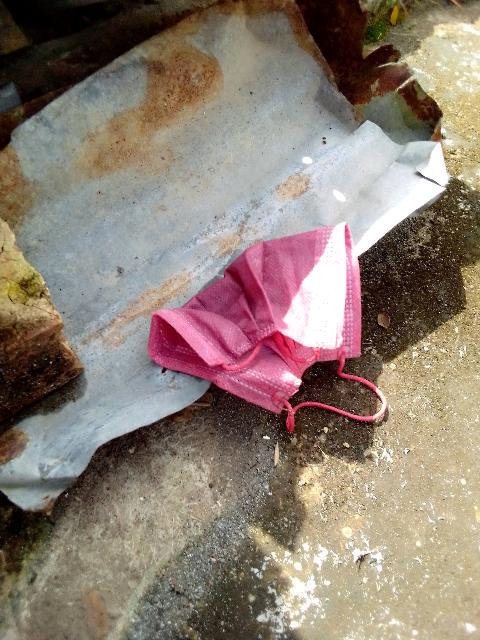mask: (191, 234, 367, 404)
